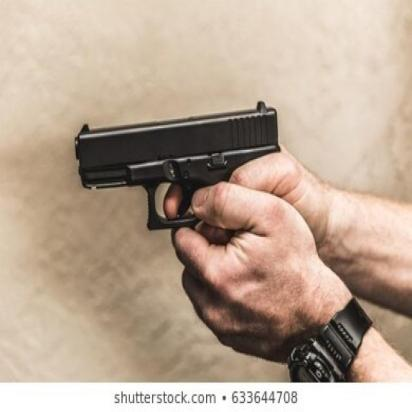Gun: (69, 98, 281, 320)
